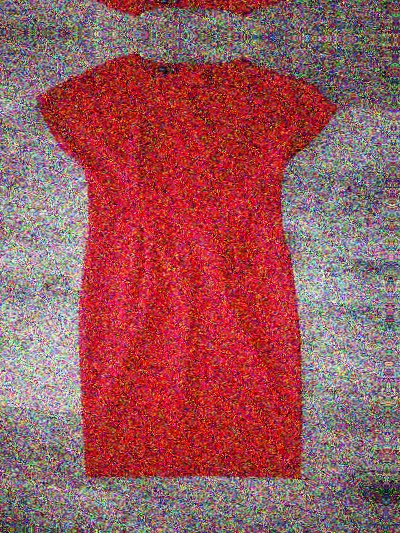Dress: (19, 46, 360, 493), (29, 0, 369, 25)
